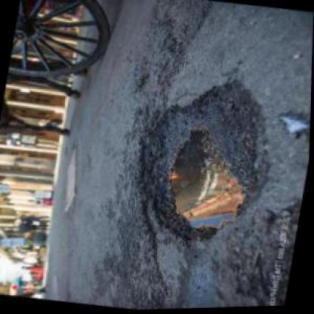Hueco: (121, 65, 283, 255)
